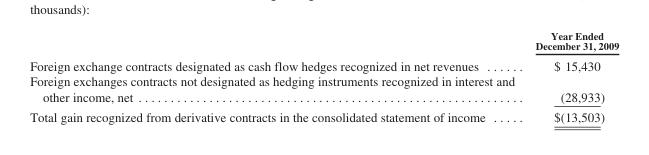table: (29, 29, 618, 124)
table column: (29, 29, 524, 124), (524, 29, 618, 124)
table column header: (29, 29, 618, 54)
table row: (29, 72, 618, 106), (29, 29, 618, 54), (29, 54, 618, 72), (29, 106, 618, 124)
